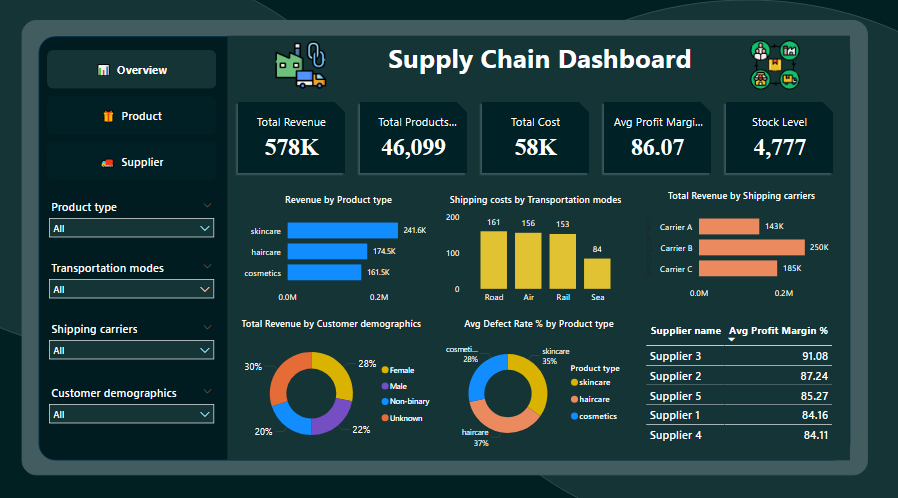

What the dashboard file says about the page in this screenshot:
{"tool":"powerbi","page":{"name":"  📊  Overview","canvas":[1280,720],"ordinal":0},"visuals":[{"type":"cardVisual","fields":{"Data":["Measures (2).Total Revenue","Measures (2).Total Products Sold","Measures (2).Total Cost","Measures (2).Avg Profit Margin","Measures (2).Stock Level"]},"box":[330.2,141.7,867.4,123.3],"z":0},{"type":"clusteredBarChart","title":"Revenue by Product type","fields":{"Y":["Sum(supply_chain_dataset.Revenue)"],"Category":["supply_chain_dataset.Product type"]},"box":[341.6,282,284.9,165.8],"z":1000},{"type":"lineClusteredColumnComboChart","title":"Shipping costs by Transportation modes","fields":{"Category":["supply_chain_dataset.Transportation modes"],"Y":["Sum(supply_chain_dataset.Shipping costs)"]},"box":[630.7,282,265,165.8],"z":2000},{"type":"donutChart","fields":{"Category":["supply_chain_dataset.Customer demographics"],"Y":["Measures (2).Total Revenue"]},"box":[341.6,457.8,284.9,199.8],"z":3000},{"type":"clusteredBarChart","fields":{"Category":["supply_chain_dataset.Shipping carriers"],"Y":["Measures (2).Total Revenue"]},"box":[912.8,276.4,284.9,165.8],"z":4000},{"type":"donutChart","fields":{"Category":["supply_chain_dataset.Product type"],"Y":["Measures (2).Avg Defect Rate %"]},"box":[630.7,457.8,275,199.8],"z":5000},{"type":"tableEx","fields":{"Values":["supply_chain_dataset.Supplier name","Measures (2).Avg Profit Margin %"]},"box":[914.2,457.8,284.9,199.8],"z":6000},{"type":"textbox","box":[341.6,59.5,856.1,82.2],"z":7000},{"type":"pageNavigator","box":[70.9,79.4,240.9,185.7],"z":8000},{"type":"slicer","fields":{"Values":["supply_chain_dataset.Product type"]},"box":[63.8,284.9,253.7,75.1],"z":9000},{"type":"slicer","fields":{"Values":["supply_chain_dataset.Transportation modes"]},"box":[63.8,371.3,253.7,76.5],"z":10000},{"type":"slicer","fields":{"Values":["supply_chain_dataset.Shipping carriers"]},"box":[63.8,457.8,253.7,80.8],"z":11000},{"type":"slicer","fields":{"Values":["supply_chain_dataset.Customer demographics"]},"box":[63.8,548.5,253.7,80.8],"z":12000},{"type":"image","box":[1007.7,59.5,189.9,82.2],"z":13000},{"type":"image","box":[341.6,59.5,177.2,82.2],"z":14000}]}

Visuals, with their boxes in screenshot pixels (x1, y1, x2, y2), scaled from the page's 1280x720 canvas onto the 898x498 screenshot:
cardVisual - Measures (2).Total Revenue x Measures (2).Total Products Sold: box(232, 98, 840, 183)
"Revenue by Product type" clusteredBarChart: box(240, 195, 440, 310)
"Shipping costs by Transportation modes" lineClusteredColumnComboChart: box(442, 195, 628, 310)
donutChart - supply_chain_dataset.Customer demographics x Measures (2).Total Revenue: box(240, 317, 440, 455)
clusteredBarChart - supply_chain_dataset.Shipping carriers x Measures (2).Total Revenue: box(640, 191, 840, 306)
donutChart - supply_chain_dataset.Product type x Measures (2).Avg Defect Rate %: box(442, 317, 635, 455)
tableEx - supply_chain_dataset.Supplier name x Measures (2).Avg Profit Margin %: box(641, 317, 841, 455)
textbox: box(240, 41, 840, 98)
pageNavigator: box(50, 55, 219, 183)
slicer - supply_chain_dataset.Product type: box(45, 197, 223, 249)
slicer - supply_chain_dataset.Transportation modes: box(45, 257, 223, 310)
slicer - supply_chain_dataset.Shipping carriers: box(45, 317, 223, 373)
slicer - supply_chain_dataset.Customer demographics: box(45, 379, 223, 435)
image: box(707, 41, 840, 98)
image: box(240, 41, 364, 98)
